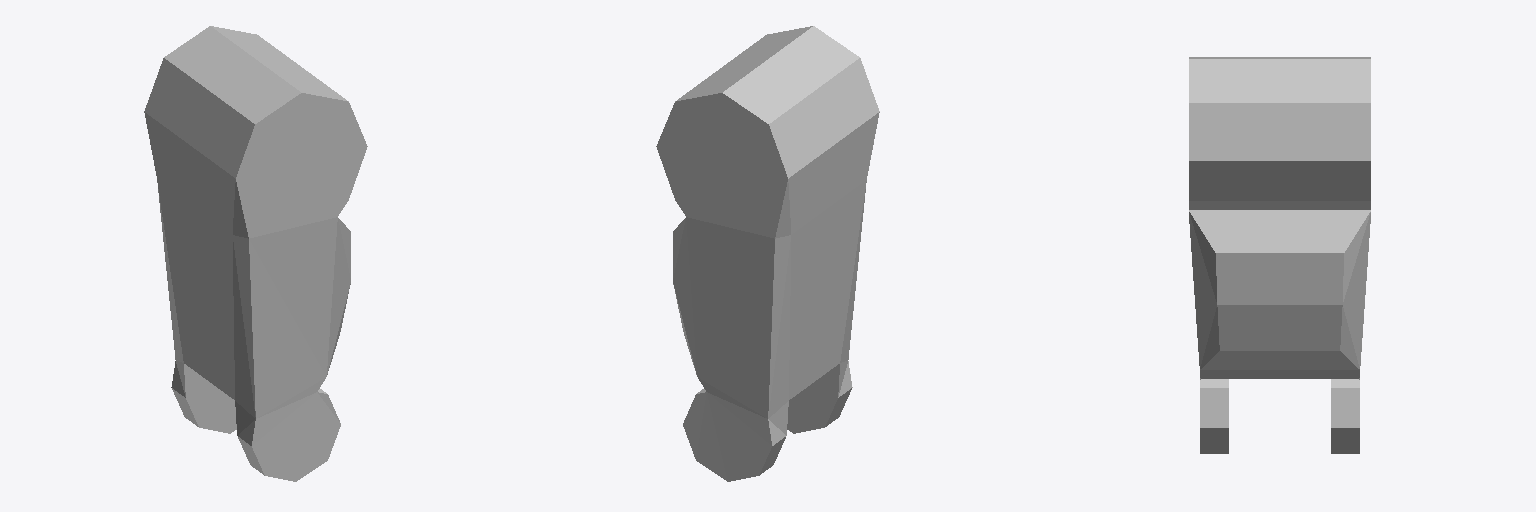
The model's file is indexj1_right.obj.
3 views of the same model, side by side, from view 1: azimuth 30°, elevation 25°; view 2: azimuth 150°, elevation 25°; view 3: azimuth 270°, elevation 25° (orthographic).
Parts seen in each view (by area): view 1: Cylinder_001; view 2: Cylinder_001; view 3: Cylinder_001.
Part boxes in pixels (bbox=[...]): Cylinder_001: bbox=[144, 26, 367, 481]; Cylinder_001: bbox=[656, 26, 879, 481]; Cylinder_001: bbox=[1189, 57, 1370, 453].
Bounding box in the file's own units: 0.019 × 0.0541 × 0.0228.